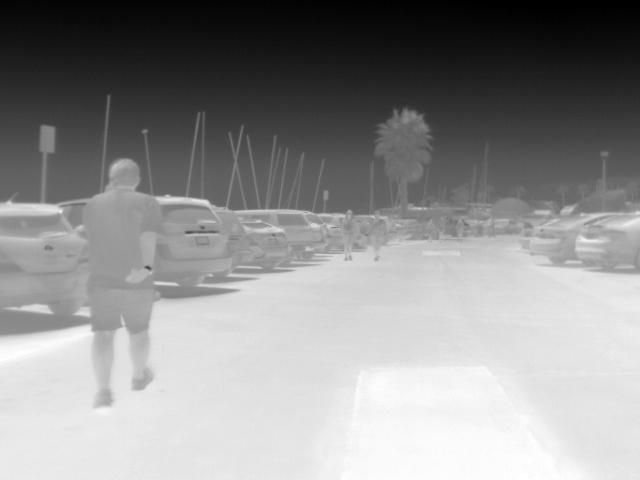car: (1, 200, 87, 320), (151, 195, 228, 291), (234, 210, 321, 267), (532, 211, 614, 266), (573, 210, 640, 270), (243, 223, 290, 273), (57, 196, 90, 238), (519, 220, 559, 250), (380, 214, 401, 244), (488, 218, 516, 236)
person: (84, 156, 161, 405), (367, 207, 388, 264), (339, 208, 360, 260), (424, 214, 436, 235)
